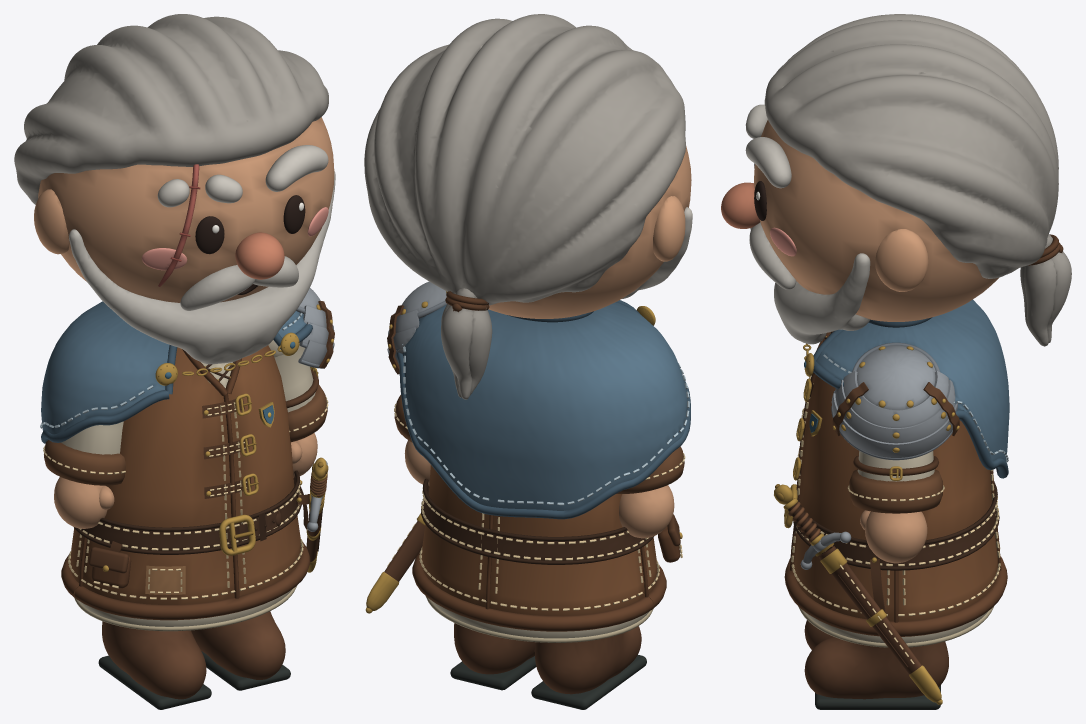
Rendered from captain.glb.
The picture shows the model from 3 angles, left to right: view 1: azimuth 30°, elevation 25°; view 2: azimuth 150°, elevation 25°; view 3: azimuth 270°, elevation 25°; orthographic projection. The views are drawn at different scales.
Parts seen in each view (by area): view 1: head, body, leg_r, arm_r, arm_l, leg_l, sword; view 2: head, body, leg_r, leg_l, arm_r, arm_l, sword; view 3: head, body, arm_l, leg_l, sword.
Part boxes in pixels (left/top/right/bottom): head: left=14, top=14, right=335, bottom=364; body: left=40, top=301, right=312, bottom=631; leg_r: left=98, top=621, right=211, bottom=709; arm_r: left=43, top=421, right=125, bottom=528; arm_l: left=268, top=288, right=334, bottom=477; leg_l: left=191, top=611, right=290, bottom=690; sword: left=296, top=457, right=328, bottom=572; head: left=364, top=14, right=692, bottom=399; body: left=397, top=300, right=690, bottom=642; leg_r: left=531, top=626, right=646, bottom=709; leg_l: left=450, top=623, right=536, bottom=690; arm_r: left=616, top=446, right=685, bottom=538; arm_l: left=387, top=281, right=446, bottom=485; sword: left=365, top=513, right=425, bottom=613; head: left=721, top=14, right=1071, bottom=346; body: left=784, top=299, right=1009, bottom=647; arm_l: left=831, top=342, right=959, bottom=563; leg_l: left=804, top=636, right=948, bottom=709; sword: left=774, top=484, right=942, bottom=704.
Size of the model in its own units: 0.6758 by 1.41 by 0.6953.
